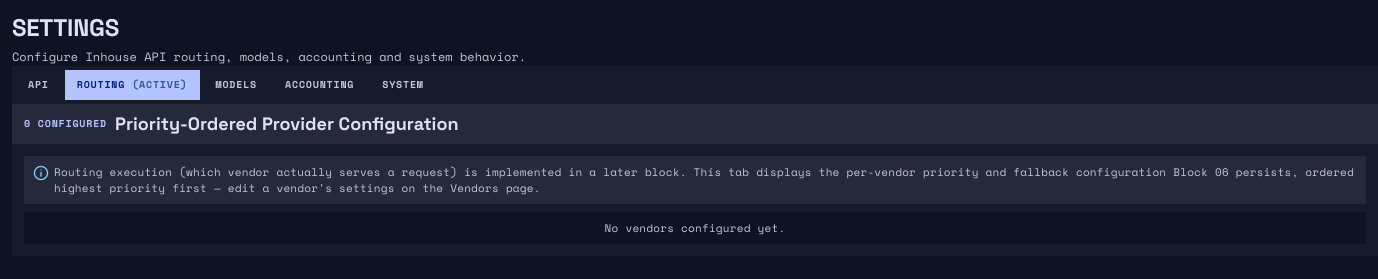
it: Settings — Models tab › shows a failed-to-load state with retry when the model list fails
This screenshot has width=1378, height=279.
What coordinates should you click on to do the following:
click the button "Models"
I would click on:
 (236, 85)
Its box is 204,70 -> 269,100.
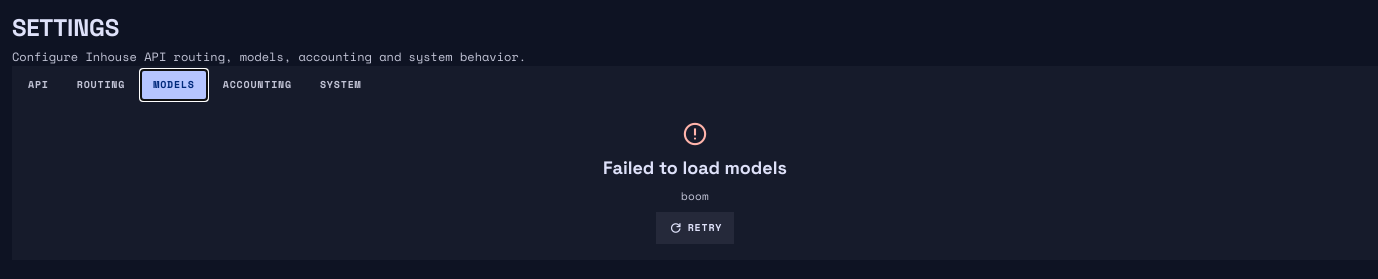
expect the text "Failed to load models" is shown: met, box 603,156 -> 787,180
expect the text "boom" is shown: met, box 681,188 -> 709,204
What coordinates should you click on to do the following:
click the button "Retry"
I would click on:
 (695, 228)
Its box is 656,212 -> 734,244.
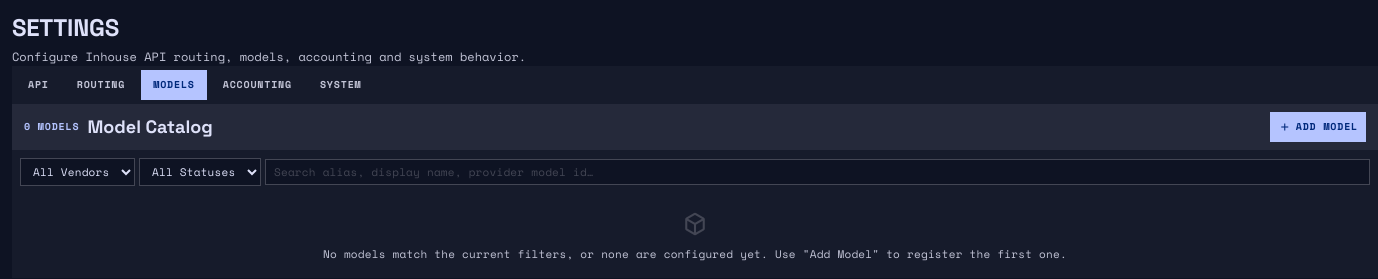
expect the text "No models match the current filters" is shown: met, box 323,246 -> 1067,262
